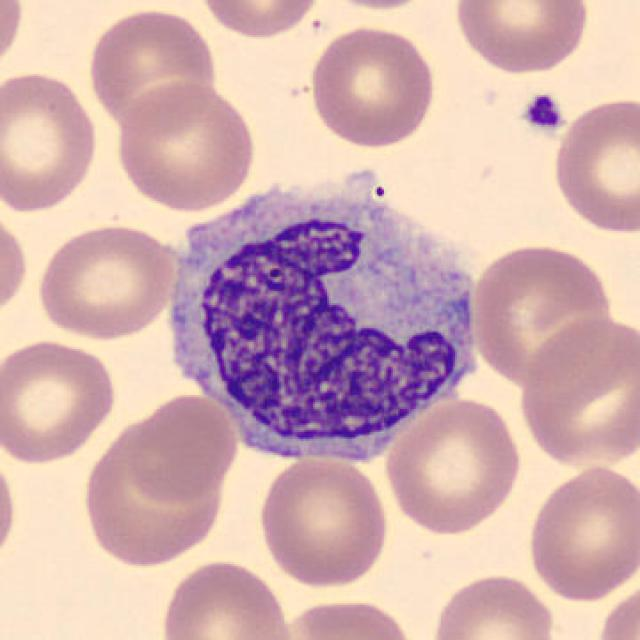Monocyte: (158, 160, 494, 476)
Platelets: (519, 92, 565, 134)
RBC: (468, 238, 618, 386), (81, 424, 223, 570), (382, 393, 524, 536), (112, 80, 258, 212), (254, 453, 393, 591), (516, 312, 636, 471), (34, 220, 181, 342), (84, 6, 220, 132), (306, 23, 439, 150), (524, 460, 638, 605), (0, 335, 121, 467), (0, 67, 101, 215), (121, 392, 240, 504), (548, 94, 638, 236), (156, 555, 297, 640), (450, 0, 594, 76), (427, 569, 560, 640), (279, 594, 418, 640), (192, 0, 327, 41), (0, 203, 32, 324), (592, 576, 638, 640), (0, 441, 21, 573), (0, 0, 27, 81), (315, 0, 441, 12)
